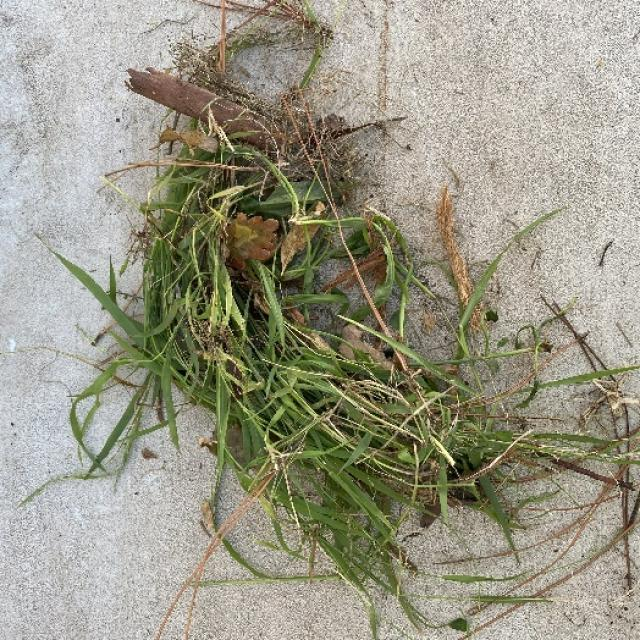organik: (97, 11, 589, 602)
